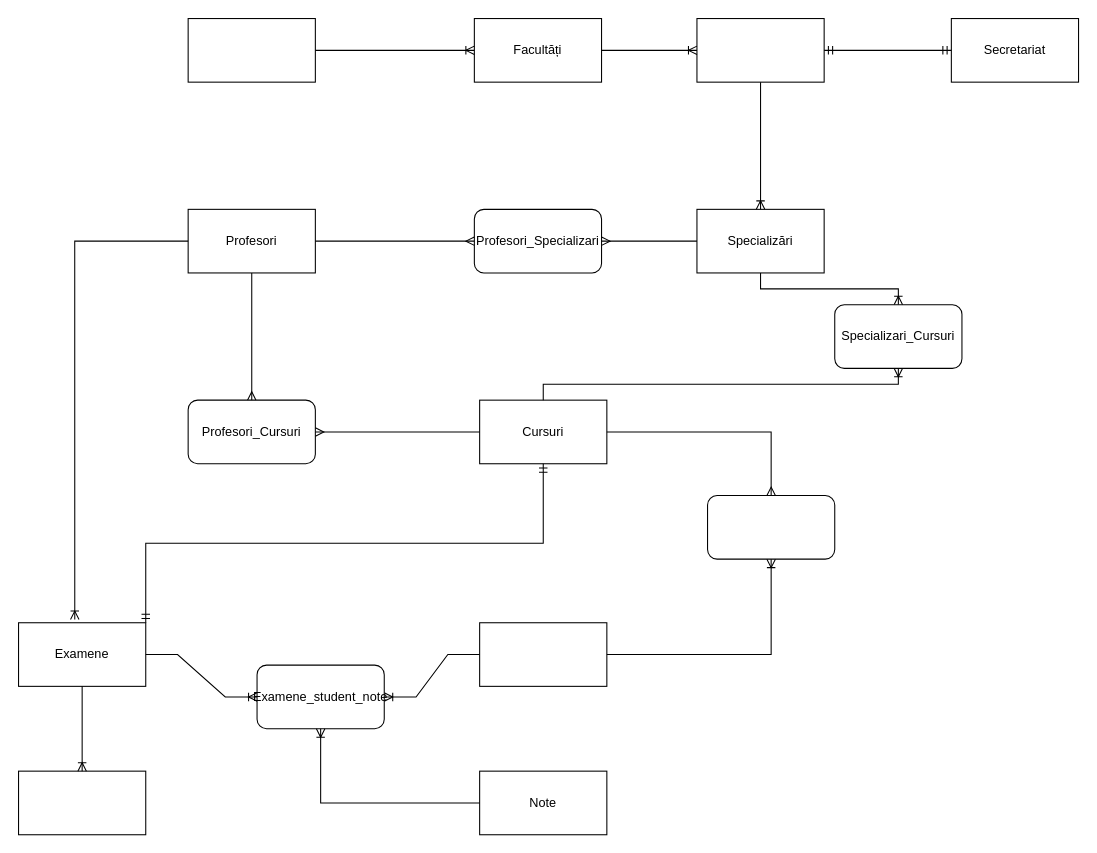
Some shapes in this 1097 by 853 pixel diagram are drawn without their labels. The shapes that lost their labels are listed below. From the top down, each one's centre as x and y in pixels, then its label:
At (251,49): "Universitate".
At (760,49): "Departamente".
At (770,526): "Cursuri_Student".
At (543,654): "Student".
At (81,802): "Sesiune".
